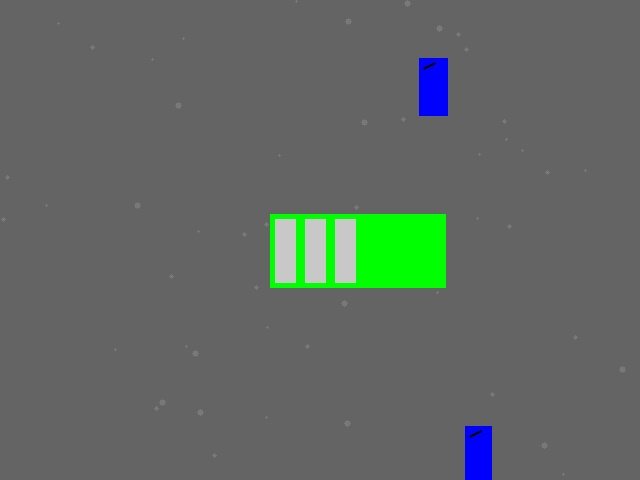bus: (270, 214, 445, 287)
motorcycle: (419, 58, 447, 115), (465, 426, 491, 479)
